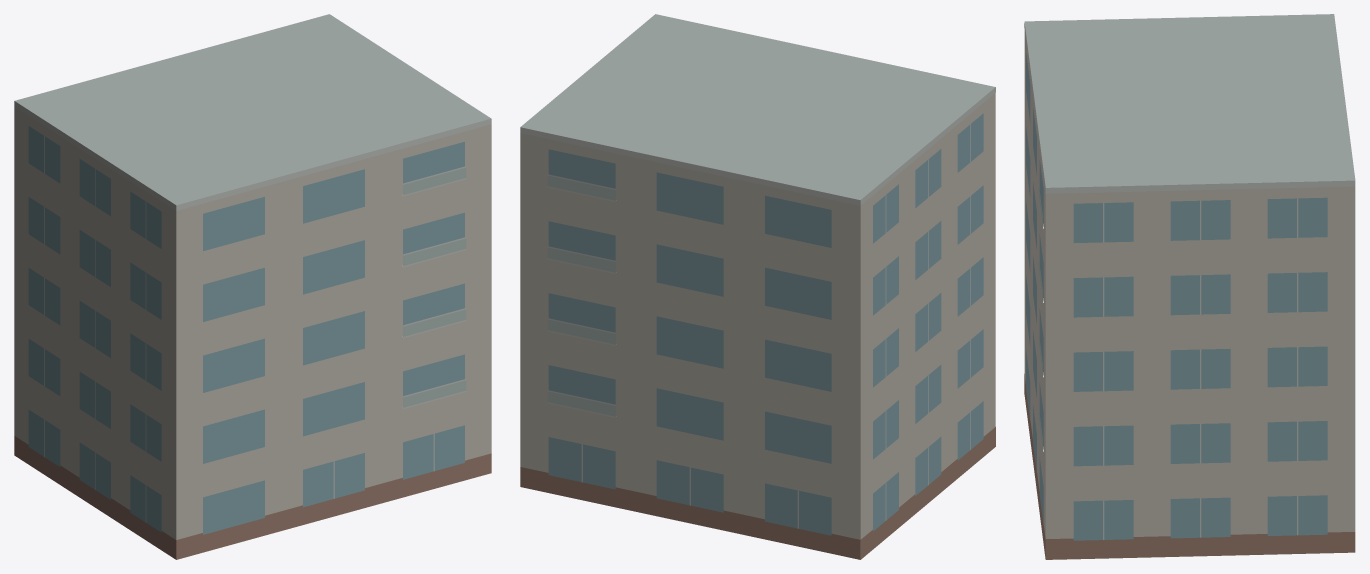
The model's file is survey-upis-32631301.glb.
The picture shows the model from 3 angles, left to right: view 1: azimuth 30°, elevation 25°; view 2: azimuth 150°, elevation 25°; view 3: azimuth 270°, elevation 25°; orthographic projection. The views are drawn at different scales.
Visible parts, largest first — view 1: survey-upis-32631301.tmp; view 2: survey-upis-32631301.tmp; view 3: survey-upis-32631301.tmp.
Part boxes in pixels (x1,y1,x2,y2): survey-upis-32631301.tmp: [14, 14, 491, 559]; survey-upis-32631301.tmp: [520, 14, 995, 559]; survey-upis-32631301.tmp: [1024, 14, 1355, 559].
Bounding box in the file's own units: 15.3 × 15.25 × 12.31.
